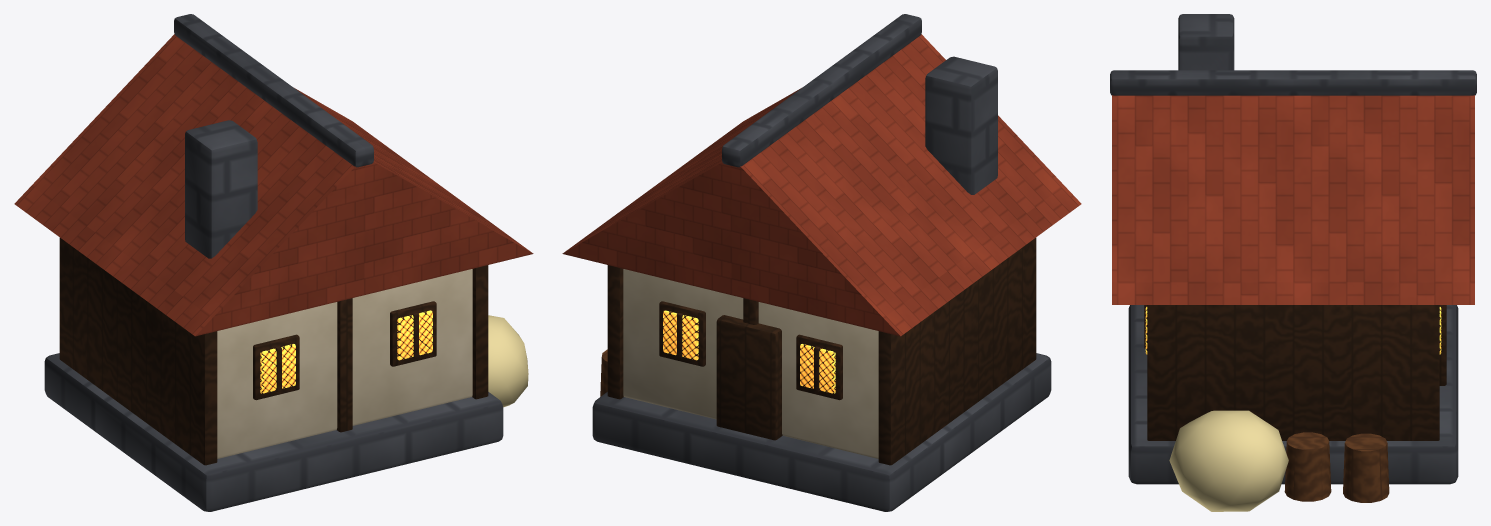
The model's file is building_house.glb.
3 renders of one model, left to right at view 1: azimuth 30°, elevation 25°; view 2: azimuth 150°, elevation 25°; view 3: azimuth 270°, elevation 25°, orthographic.
Visible parts, largest first — view 1: building_house; view 2: building_house; view 3: building_house.
Boxes of the visible parts, x1,y1,x2,y2 form: building_house: (14, 14, 533, 511); building_house: (562, 14, 1081, 511); building_house: (1110, 14, 1476, 511).
Bounding box in the file's own units: 4.62 × 3.99 × 3.79.
7 materials, 6 textured.
